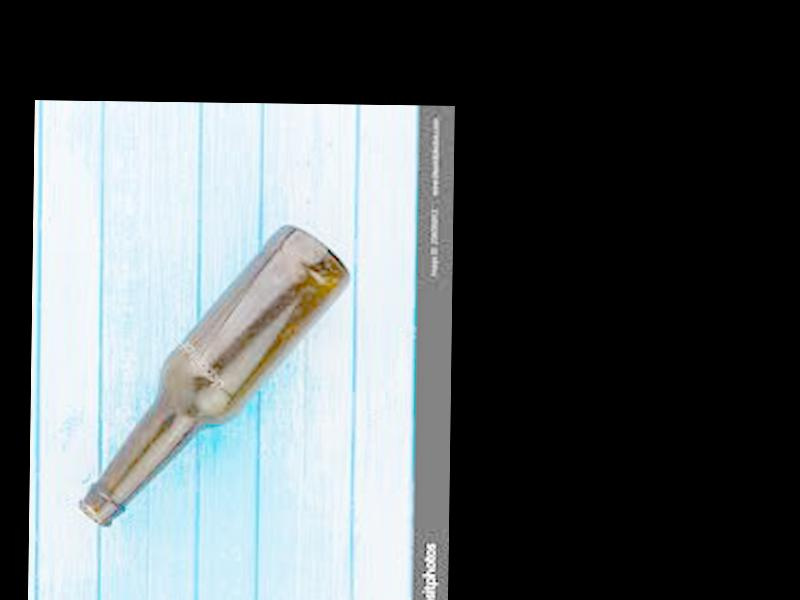Beer: (77, 221, 355, 527)
